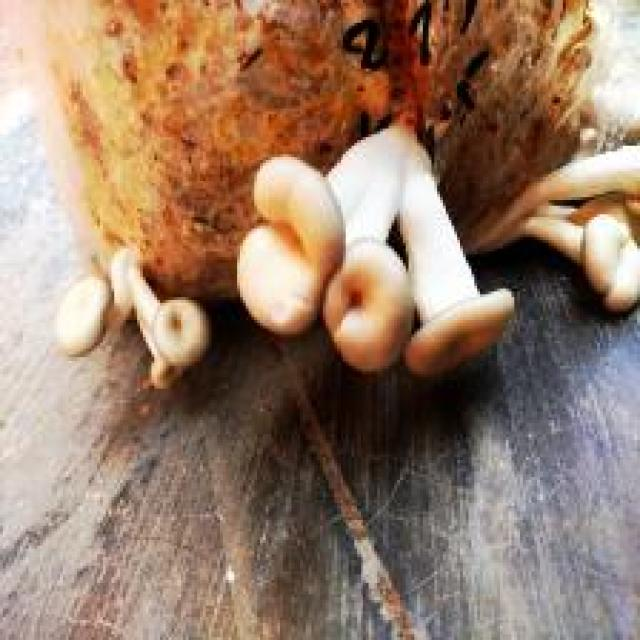chanterelle: (3, 0, 637, 386)
